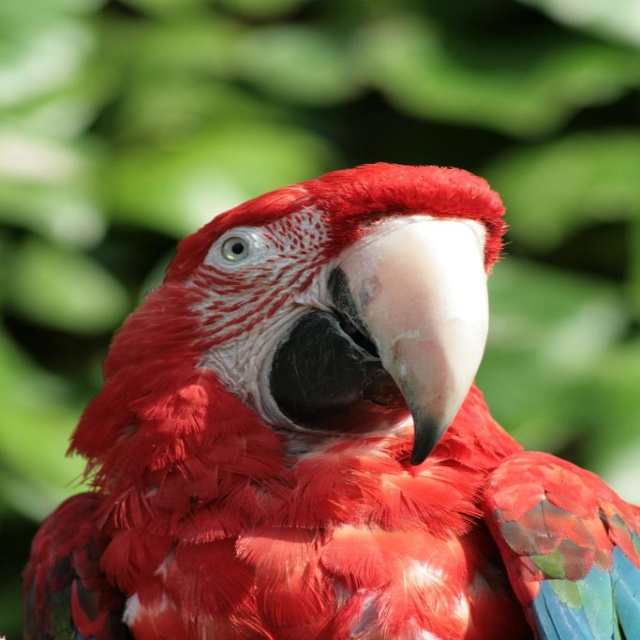Parrot: (16, 159, 639, 639)
